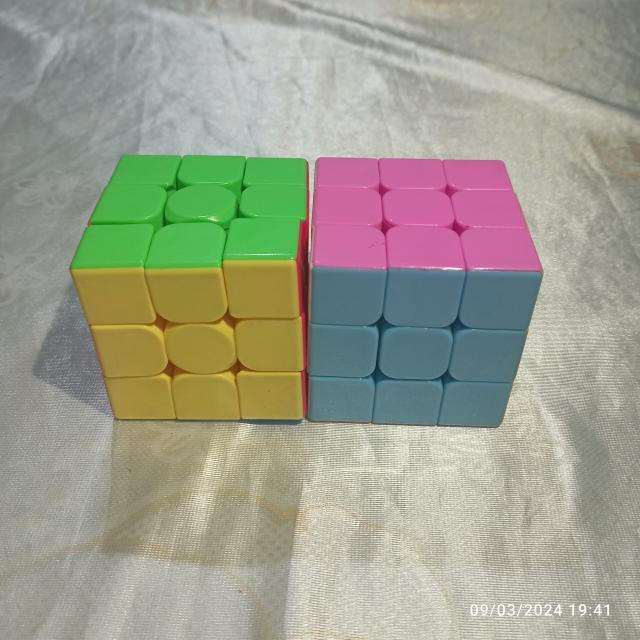Rub: (67, 152, 312, 428), (299, 152, 543, 428)
